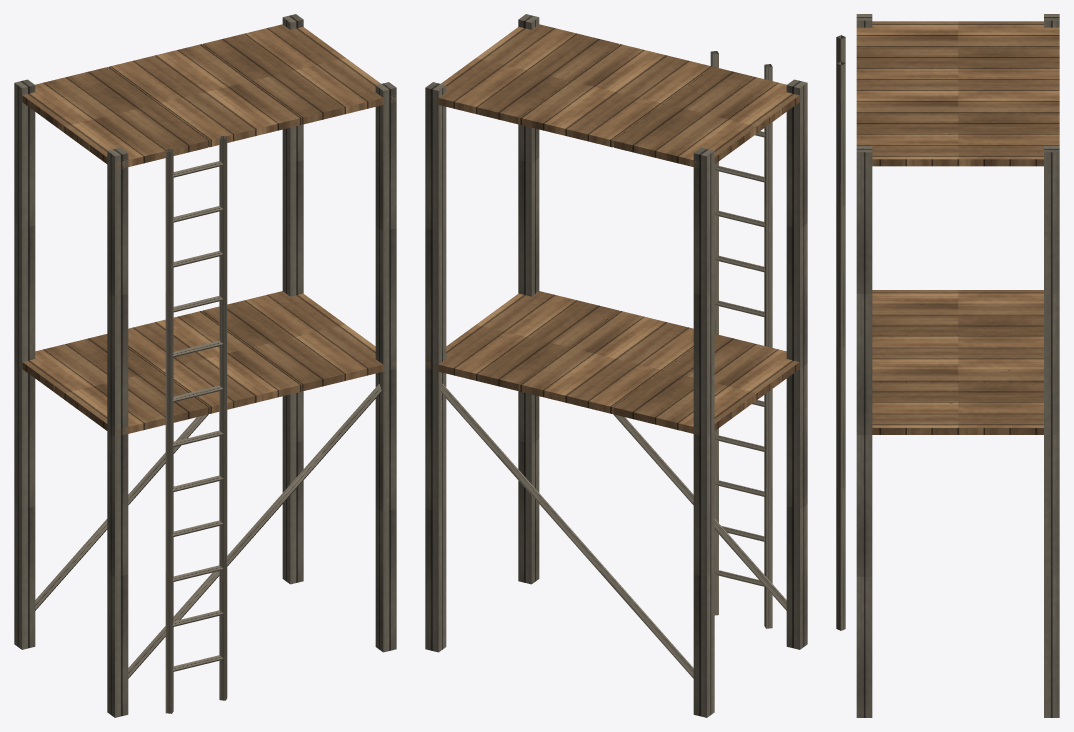
File: Frame_Scaffold_1_LOD1.gltf
The picture shows the model from 3 angles, left to right: view 1: azimuth 30°, elevation 25°; view 2: azimuth 150°, elevation 25°; view 3: azimuth 270°, elevation 25°; orthographic projection.
Visible parts, largest first — view 1: Frame_Scaffold_1_LOD1; view 2: Frame_Scaffold_1_LOD1; view 3: Frame_Scaffold_1_LOD1.
Part boxes in pixels (bbox=[...]): Frame_Scaffold_1_LOD1: bbox=[14, 14, 396, 717]; Frame_Scaffold_1_LOD1: bbox=[425, 14, 807, 717]; Frame_Scaffold_1_LOD1: bbox=[836, 14, 1059, 717].
Bounding box in the file's own units: 2.1 × 4 × 1.43.
2 materials, 2 textured.
